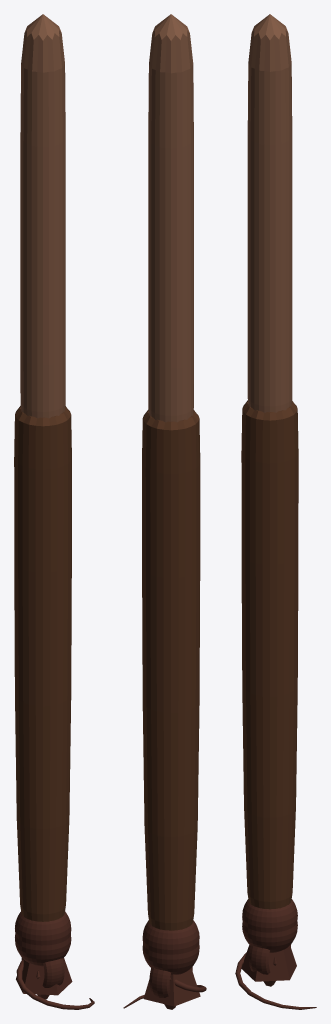
File: Wand 13.glb
3 views of the same model, side by side, from view 1: azimuth 30°, elevation 25°; view 2: azimuth 150°, elevation 25°; view 3: azimuth 330°, elevation 25° (orthographic). The views are drawn at different scales.
Visible parts, largest first — view 1: GeneratedWand, Pommel_4, Pommel_9, Pommel_10, Pommel_2; view 2: GeneratedWand, Pommel_4, Pommel_9, Pommel_2, Pommel_10; view 3: GeneratedWand, Pommel_9, Pommel_4, Pommel_2, Pommel_10.
Part boxes in pixels (x1,y1,x2,y2): GeneratedWand: (14, 14, 71, 945); Pommel_4: (15, 934, 71, 966); Pommel_9: (16, 958, 72, 995); Pommel_10: (16, 959, 94, 1009); Pommel_2: (21, 957, 64, 987); GeneratedWand: (142, 14, 200, 954); Pommel_4: (142, 942, 199, 974); Pommel_9: (143, 968, 200, 1006); Pommel_2: (149, 967, 192, 997); Pommel_10: (123, 978, 206, 1008); GeneratedWand: (241, 14, 298, 932); Pommel_9: (241, 945, 296, 981); Pommel_4: (242, 922, 297, 952); Pommel_2: (249, 944, 291, 974); Pommel_10: (235, 952, 316, 1009).
Size of the model in its own units: 0.0402 by 0.5188 by 0.0338.
